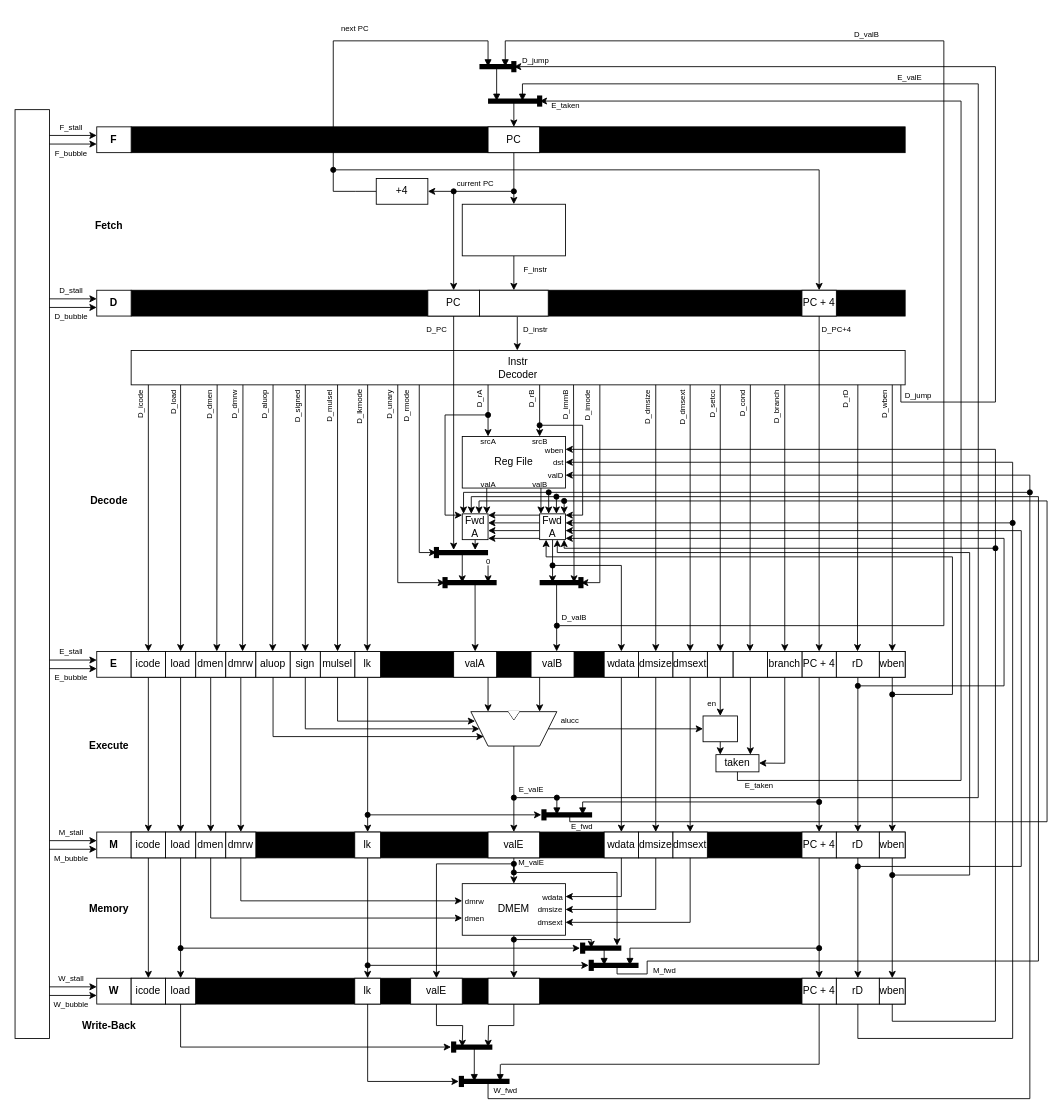
Image size: 1063x1117. Some labels were removed from this diagram. Each missing label, with the centre of its shape:
"ALU" goes at point 513,728.
"cond" goes at point 750,664.
"IMEM" goes at point 513,229.
"IR" goes at point 513,302.
"NZCV reg" goes at point 719,728.
"Pipeline Controller" goes at point 31,573.
"setcc" goes at point 719,664.
"valM" goes at point 513,990.
